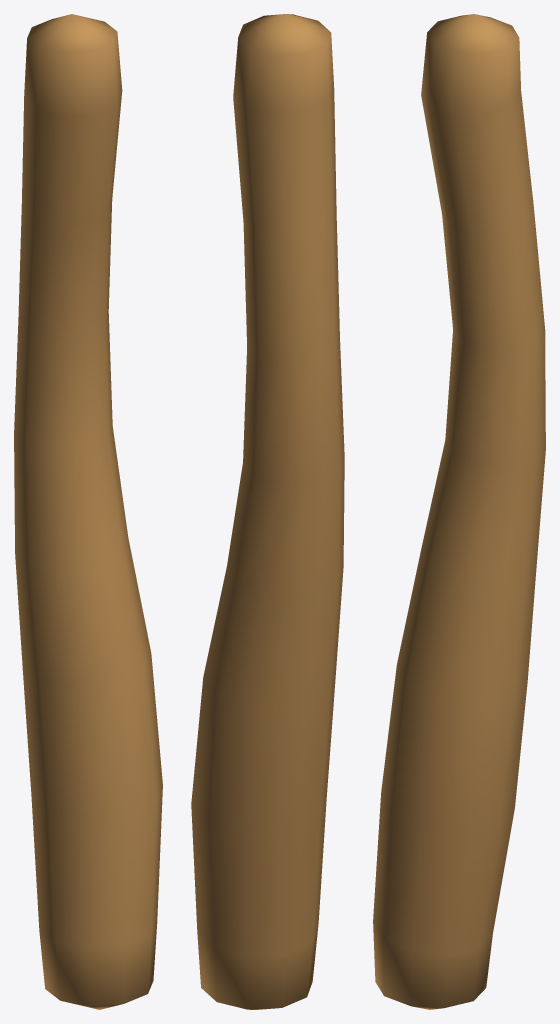
File: tibia_T1_left_leg.obj
The picture shows the model from 3 angles, left to right: view 1: azimuth 30°, elevation 25°; view 2: azimuth 210°, elevation 25°; view 3: azimuth 270°, elevation 25°; orthographic projection. The views are drawn at different scales.
Bounding box in the file's own units: 0.00688 × 0.0565 × 0.00892.
